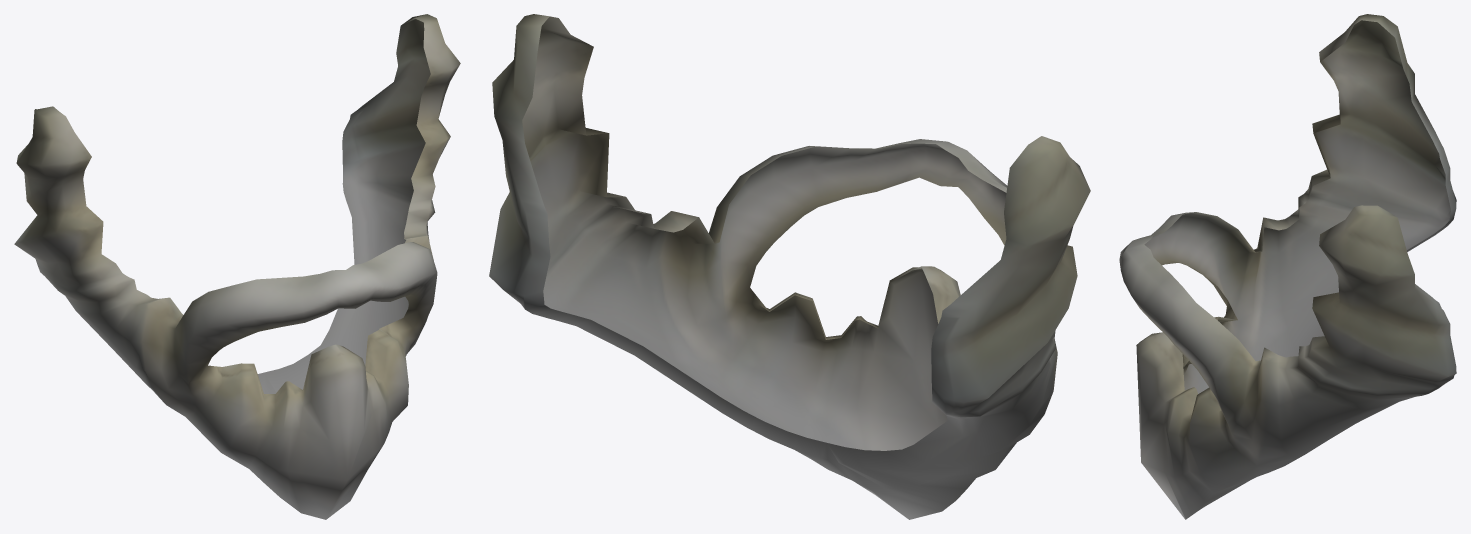
File: Hair_Beard.gltf
The picture shows the model from 3 angles, left to right: view 1: azimuth 30°, elevation 25°; view 2: azimuth 150°, elevation 25°; view 3: azimuth 270°, elevation 25°; orthographic projection. The views are drawn at different scales.
Parts seen in each view (by area): view 1: Hair_Beard; view 2: Hair_Beard; view 3: Hair_Beard.
Boxes of the visible parts, x1=… form: Hair_Beard: x1=14, y1=14, x2=460, y2=519; Hair_Beard: x1=489, y1=14, x2=1090, y2=519; Hair_Beard: x1=1119, y1=14, x2=1456, y2=519.
Size of the model in its own units: 0.1615 by 0.1398 by 0.1049.
1 material, 1 textured.
